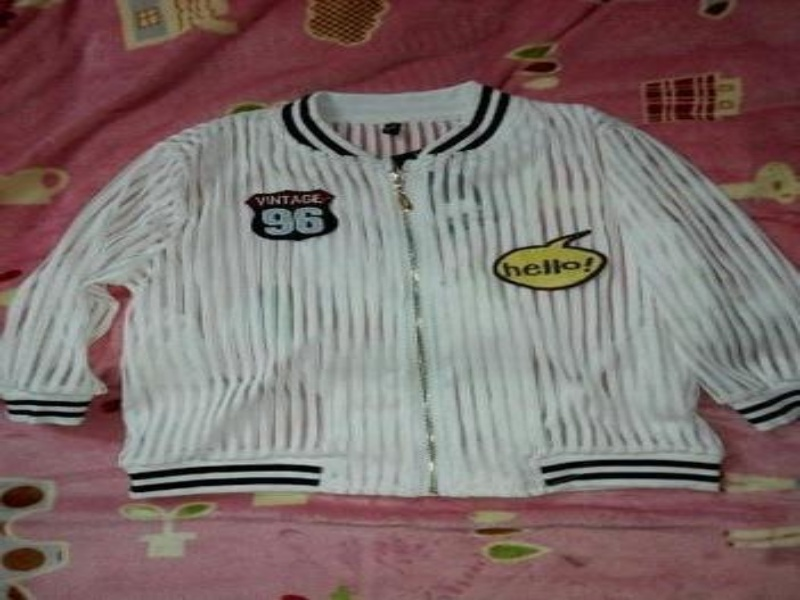long_sleeved_shirt: (0, 69, 798, 517)
